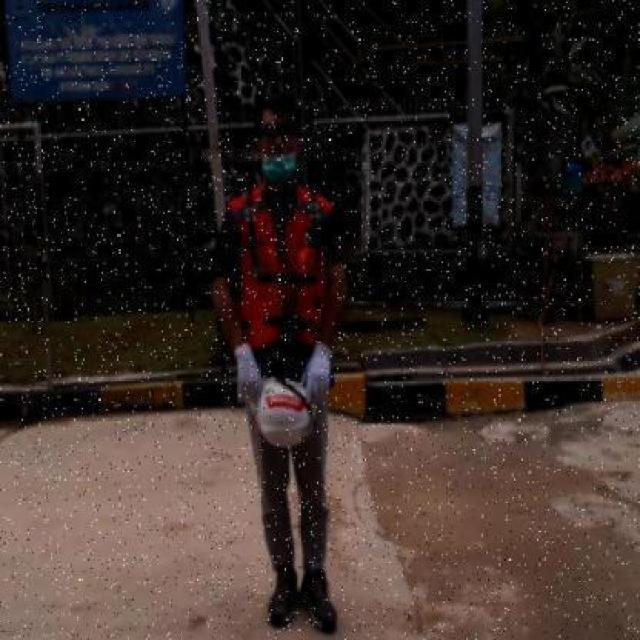Boots: (298, 572, 338, 636), (265, 561, 297, 630)
Gloves: (304, 340, 330, 409), (236, 342, 259, 404)
Helmet: (258, 379, 311, 452)
Mask: (260, 154, 298, 186)
Protective Glasses: (258, 123, 298, 143)
Vest: (242, 248, 322, 347)
